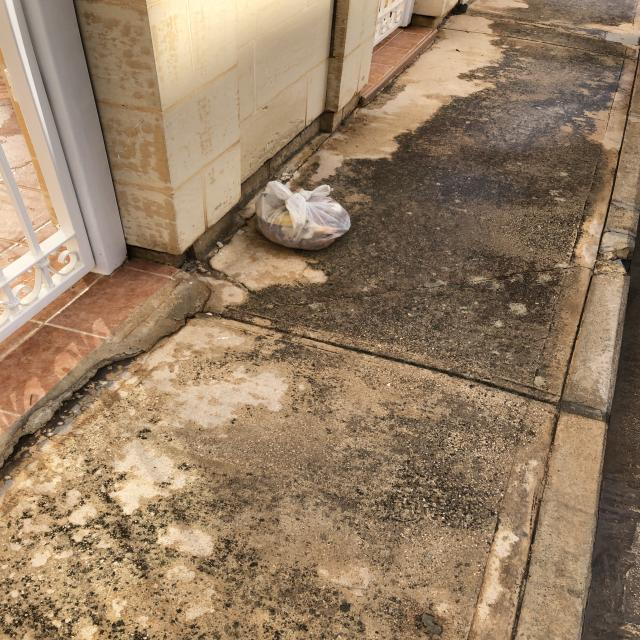Organic Waste -White Bag-: (251, 168, 354, 257)
